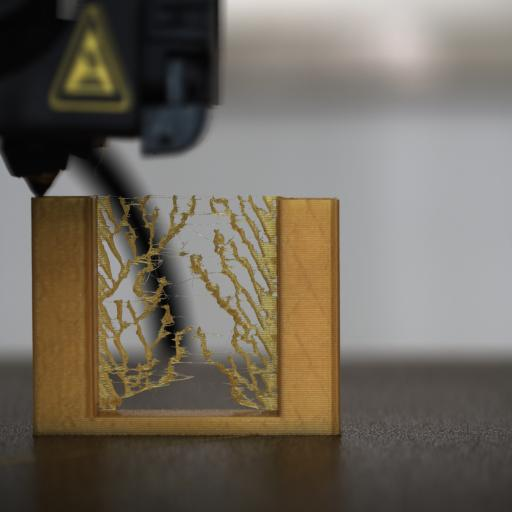stringing: (97, 191, 277, 409)
